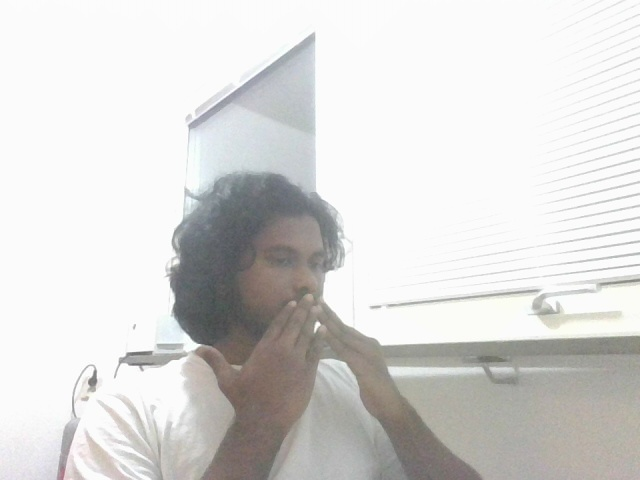Thanks: (185, 290, 439, 440)
